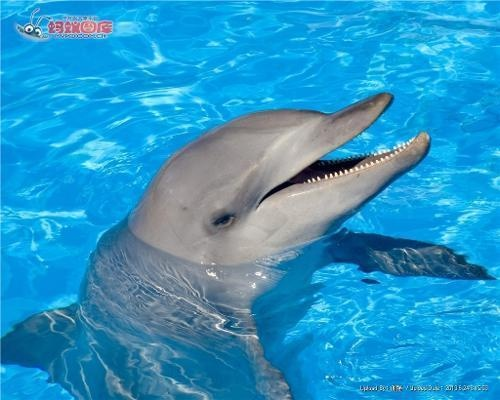fish: (1, 90, 453, 398)
